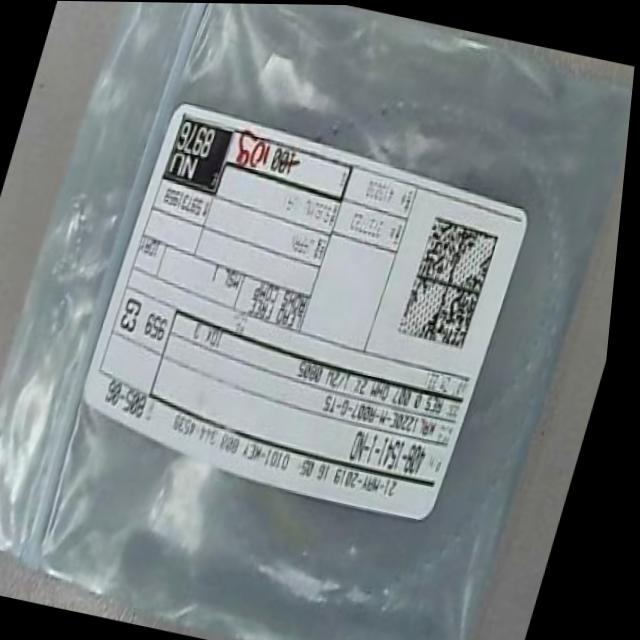datamatrix: (402, 210, 508, 352)
